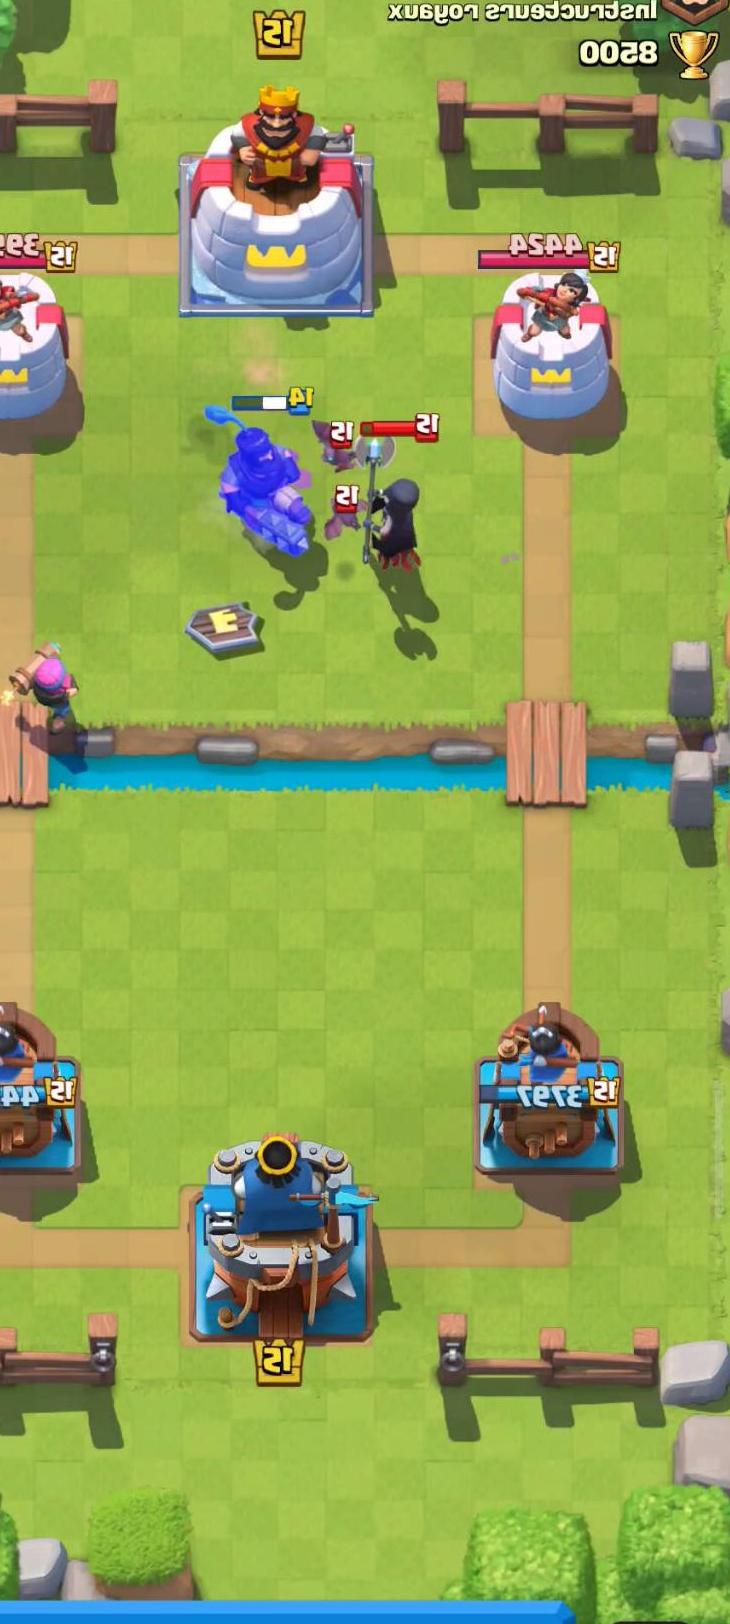enemy_bats: (310, 419, 365, 477), (320, 484, 371, 539), (407, 412, 446, 461)
player_dark_prince: (225, 373, 320, 563)
player_firecraker: (1, 637, 87, 732)
player_night_witch: (314, 424, 439, 585)
